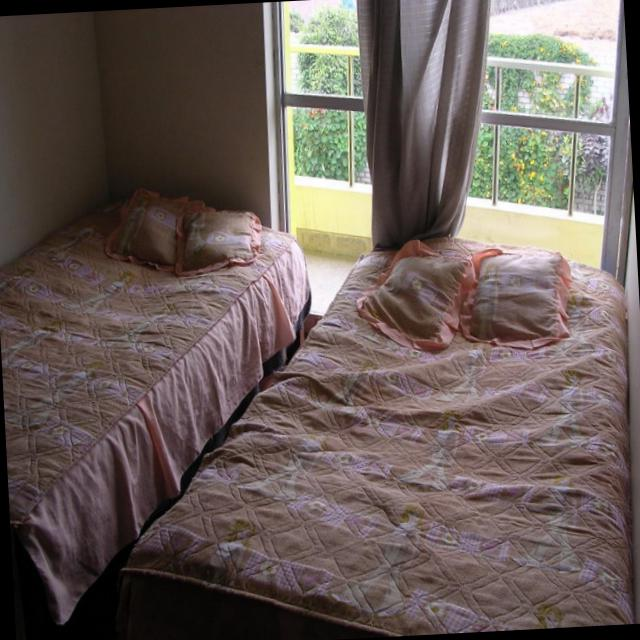bed -occluded-: (112, 237, 634, 640)
bed frame: (0, 194, 309, 628)
curtain crop: (356, 0, 490, 247)
cushion occluded: (358, 240, 475, 346), (464, 253, 571, 347), (107, 187, 193, 270), (175, 206, 259, 274)
floor -X: (11, 242, 629, 640)
large window: (272, 0, 629, 274)
wall clock: (91, 2, 287, 272), (0, 12, 108, 360), (615, 123, 640, 622)
